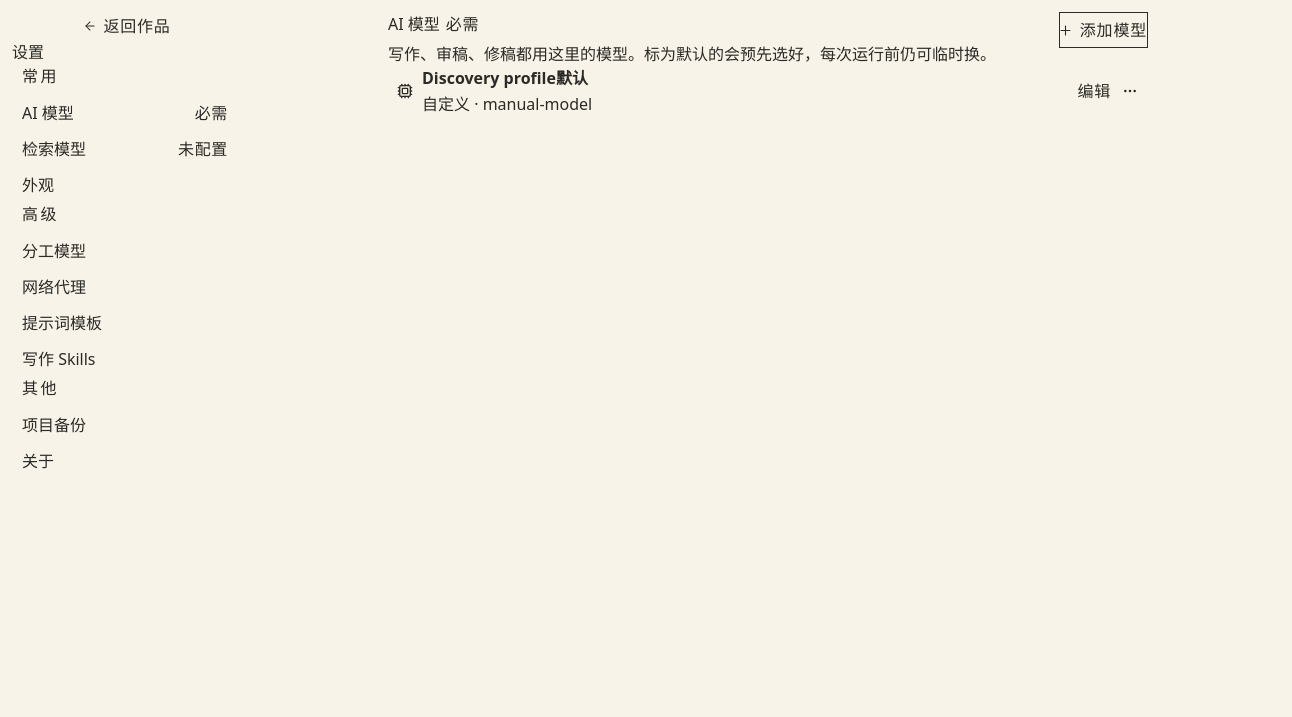
Test: model discovery settings flow › 上下文窗口来源标签 › zh-CN 下档案 {"capabilities":{"contextWindowTokens":64000,"maxOutputTokens":4096,"reasoning":false,"structuredOutput":false,"usage":false},"capabilitySources":{"co
The image size is (1292, 717).
Click the button with aria-label "编辑「". click: (1094, 91)
box: [1076,77,1112,105]
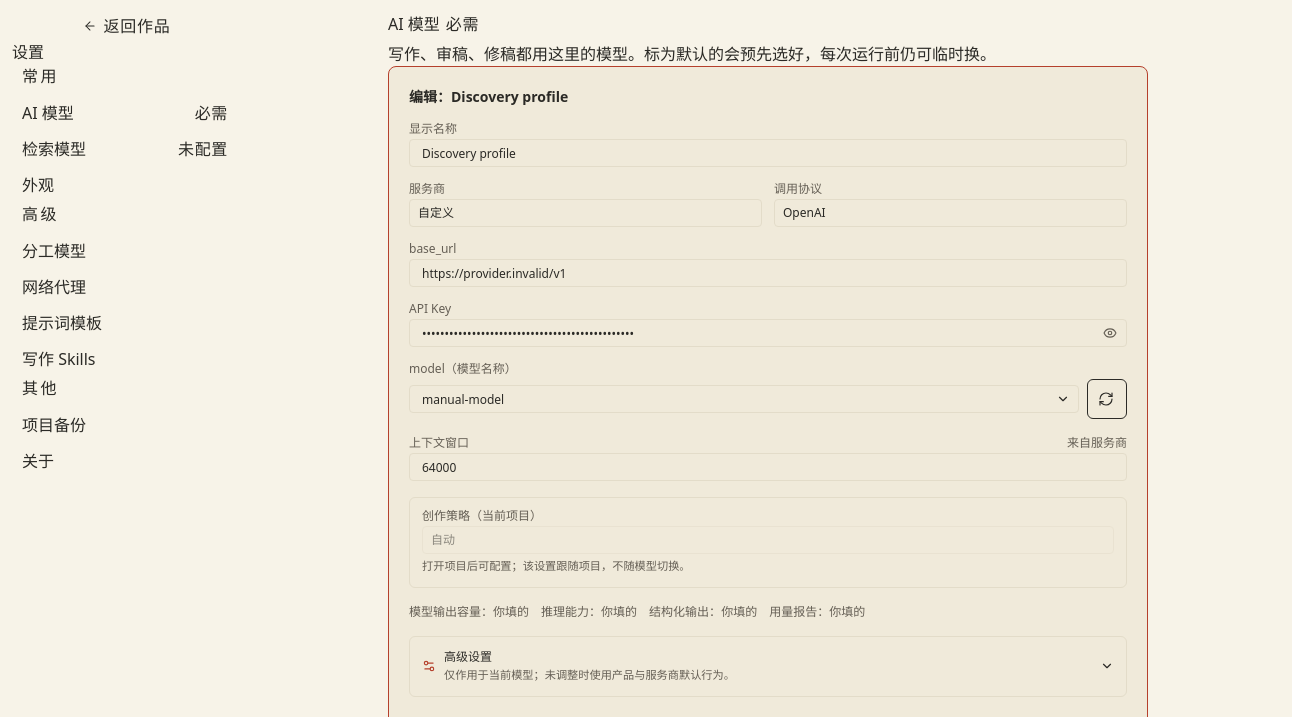
Expected: the text "来自服务商" is shown, [1067,435,1127,451]
